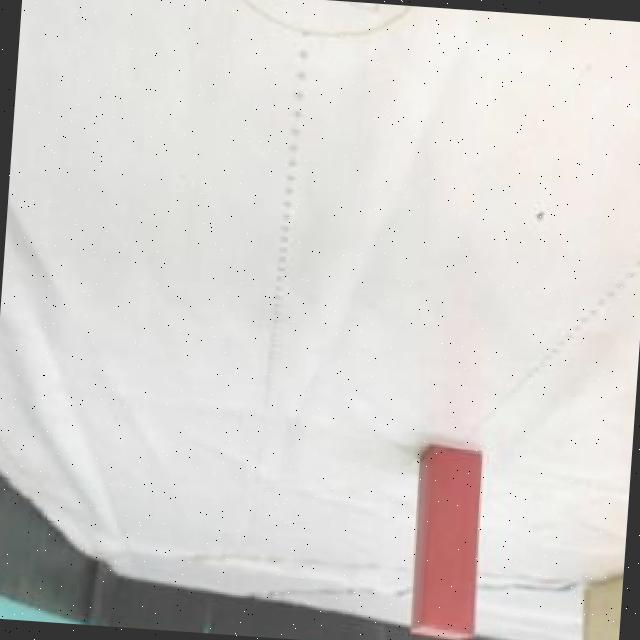redbox: (402, 441, 489, 640)
